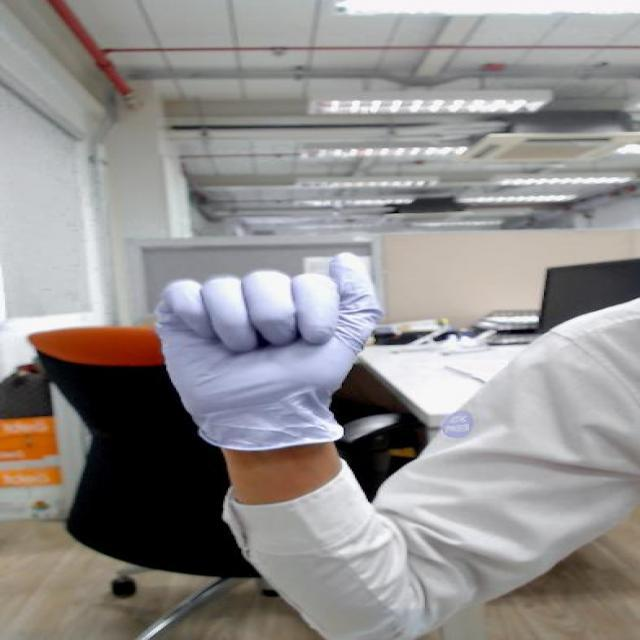with_gloves: (144, 245, 413, 430)
